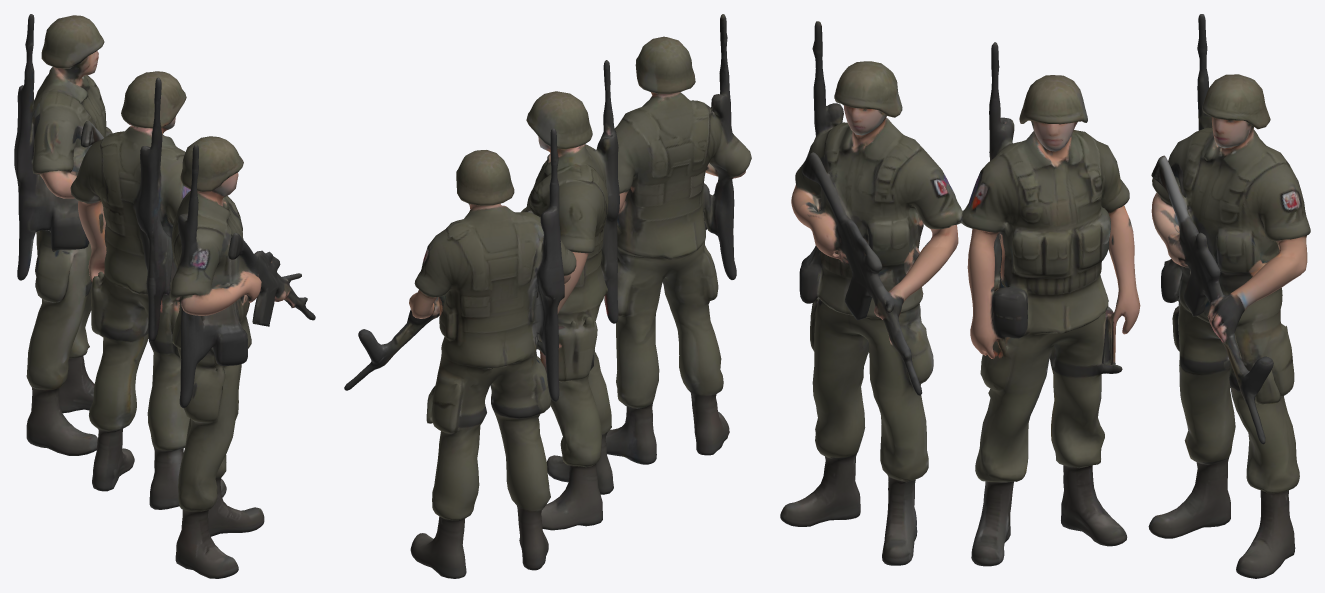
Rendered from tripo_convert_b27f00e8-b2e6-48be-b6f9-2d743ddb754a.fbx.
The picture shows the model from 3 angles, left to right: view 1: azimuth 30°, elevation 25°; view 2: azimuth 150°, elevation 25°; view 3: azimuth 270°, elevation 25°; orthographic projection. The views are drawn at different scales.
Parts seen in each view (by area): view 1: tripo_node_b27f00e8; view 2: tripo_node_b27f00e8; view 3: tripo_node_b27f00e8.
Boxes of the visible parts, bbox=[...] form: tripo_node_b27f00e8: bbox=[14, 14, 315, 578]; tripo_node_b27f00e8: bbox=[344, 14, 751, 578]; tripo_node_b27f00e8: bbox=[780, 14, 1310, 578].
Size of the model in its own units: 50.28 by 99.84 by 95.58.
1 material, 1 textured.
